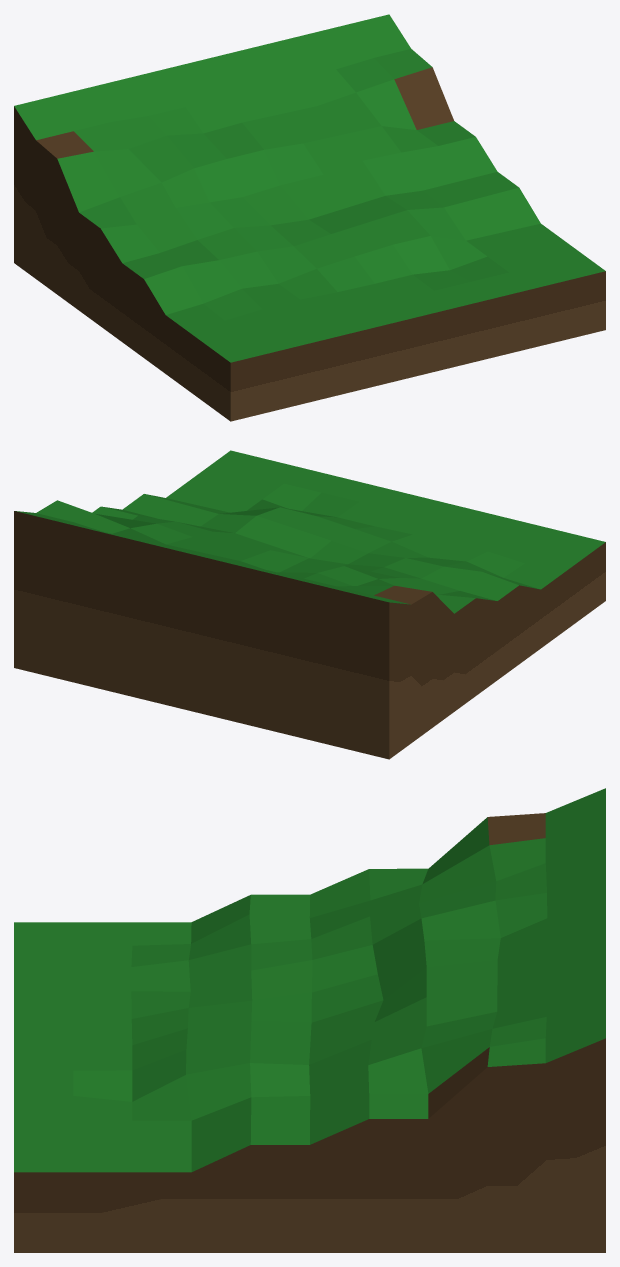
Rendered from Elev_EPE.fbx.
The picture shows the model from 3 angles, top to bottom: view 1: azimuth 30°, elevation 25°; view 2: azimuth 150°, elevation 25°; view 3: azimuth 270°, elevation 25°; orthographic projection. The views are drawn at different scales.
Visible parts, largest first — view 1: Elev_EPE; view 2: Elev_EPE; view 3: Elev_EPE.
Part boxes in pixels (x1,y1,x2,y2): Elev_EPE: (14,14,605,421); Elev_EPE: (14,450,605,759); Elev_EPE: (14,788,605,1252).
Bounding box in the file's own units: 200 × 80 × 200.
